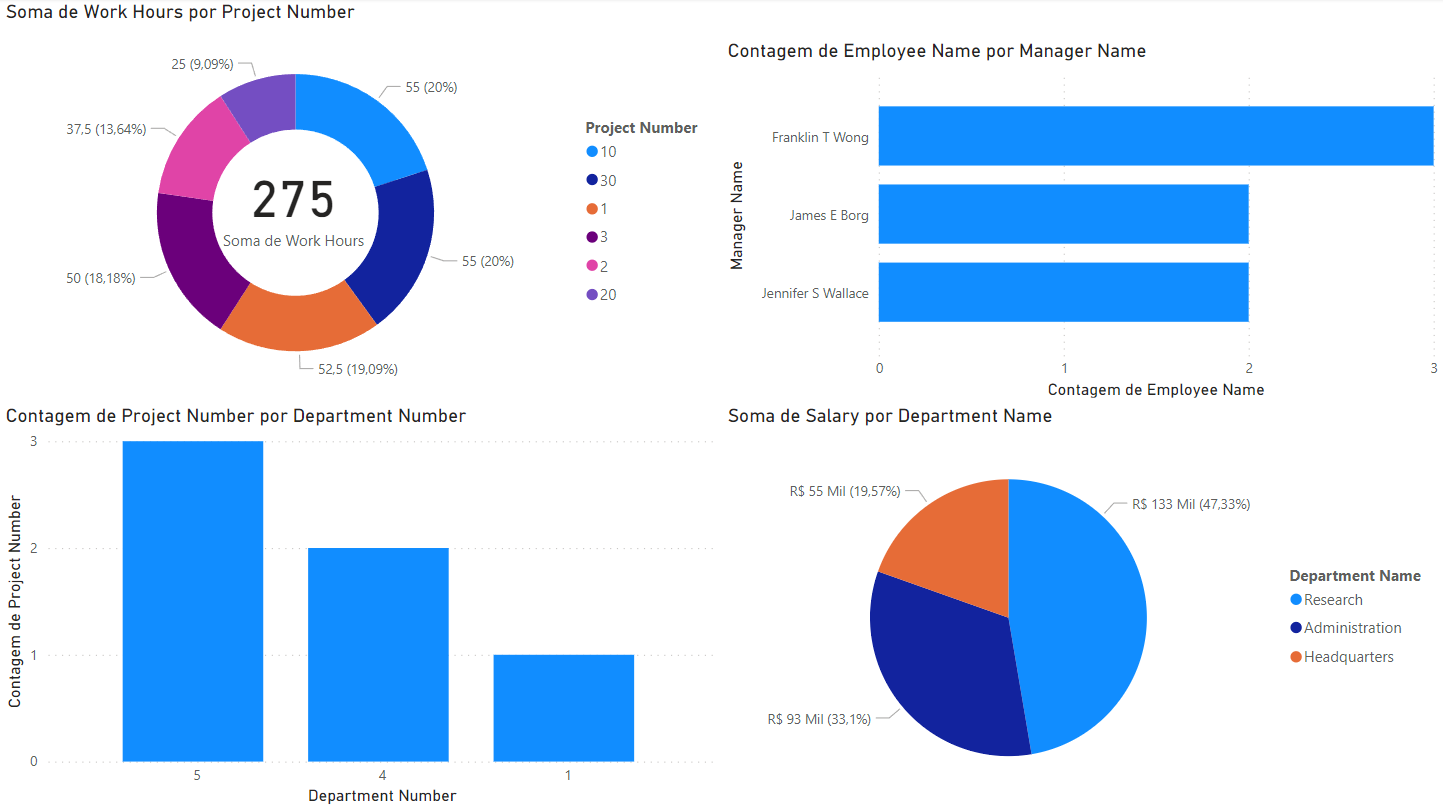

The dashboard page shown, as its layout file describes it:
{"tool":"powerbi","page":{"name":"Página 1","canvas":[1280,720],"ordinal":0},"visuals":[{"type":"donutChart","fields":{"Category":["azure_company works_on.Project Number"],"Y":["azure_company works_on.Work Hours"]},"box":[0,1.9,640,358.1],"z":0},{"type":"card","fields":{"Values":["azure_company works_on.Work Hours"]},"box":[171.8,106.2,176.7,150.6],"z":1000},{"type":"clusteredBarChart","fields":{"Category":["azure_company employee_manager join.Manager Name"],"Y":["azure_company employee_manager join.Employee Name"]},"box":[640,36.7,640,323.4],"z":2000},{"type":"clusteredColumnChart","fields":{"Y":["azure_company project.Project Number"],"Category":["azure_company project.Department Number"]},"box":[0,360.1,640,360.1],"z":2001},{"type":"pieChart","fields":{"Y":["azure_company employee_department join.Salary"],"Category":["azure_company employee_department join.Department Name"]},"box":[640,360,640,360],"z":2002}]}

Visuals, with their boxes in screenshot pixels (x1, y1, x2, y2), scaled from the page's 1280x720 canvas onto the 1443x810 screenshot:
donutChart - azure_company works_on.Project Number x azure_company works_on.Work Hours: (0, 2, 722, 405)
card - azure_company works_on.Work Hours: (194, 119, 393, 289)
clusteredBarChart - azure_company employee_manager join.Manager Name x azure_company employee_manager join.Employee Name: (722, 41, 1442, 405)
clusteredColumnChart - azure_company project.Project Number x azure_company project.Department Number: (0, 405, 722, 809)
pieChart - azure_company employee_department join.Salary x azure_company employee_department join.Department Name: (722, 405, 1442, 809)
